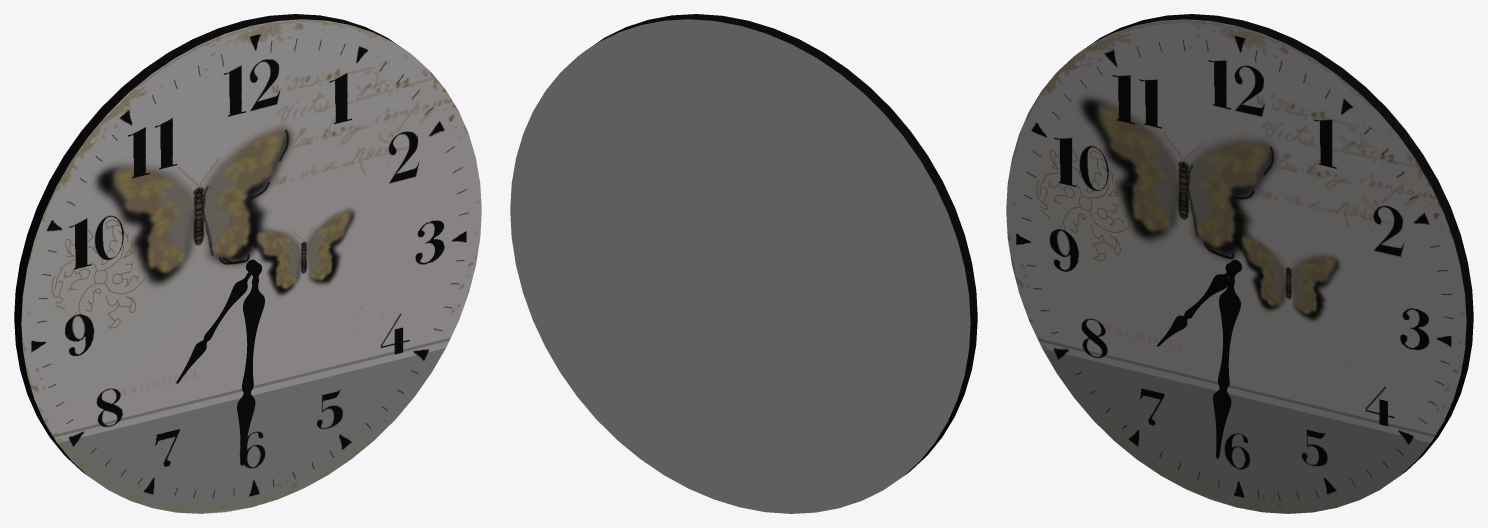
Rendered from obj_wall_clock_1579e4.glb.
3 renders of one model, left to right at view 1: azimuth 30°, elevation 25°; view 2: azimuth 150°, elevation 25°; view 3: azimuth 330°, elevation 25°, orthographic.
Parts seen in each view (by area): view 1: obj_wall_clock_1579e4; view 2: obj_wall_clock_1579e4; view 3: obj_wall_clock_1579e4.
Boxes of the visible parts, x1,y1,x2,y2 form: obj_wall_clock_1579e4: (14,14,481,513); obj_wall_clock_1579e4: (510,14,977,513); obj_wall_clock_1579e4: (1006,14,1473,513).
Size of the model in its own units: 0.3501 by 0.35 by 0.0182.
Materials: 2 (2 with a texture image).
